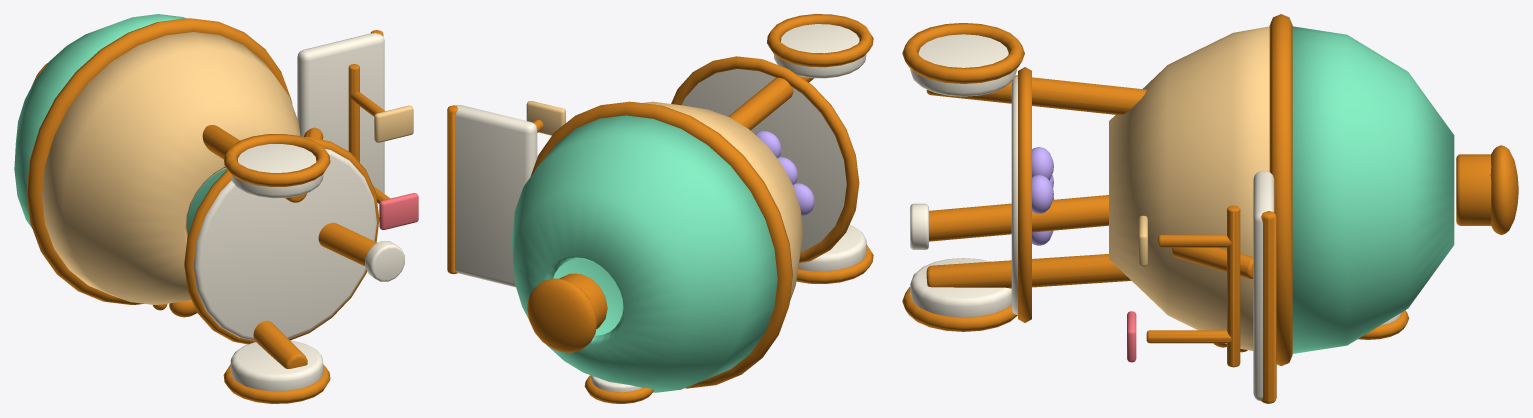
The model's file is GardenGrill_Premium.fbx.
3 renders of one model, left to right at view 1: azimuth 30°, elevation 25°; view 2: azimuth 150°, elevation 25°; view 3: azimuth 270°, elevation 25°, orthographic. The views are drawn at different scales.
Visible parts, largest first — view 1: GardenGrill; view 2: GardenGrill; view 3: GardenGrill.
Boxes of the visible parts, x1,y1,x2,y2 form: GardenGrill: (14, 14, 418, 403); GardenGrill: (447, 14, 873, 403); GardenGrill: (902, 14, 1518, 403).
Size of the model in its own units: 0.797 by 0.608 by 1.06.
